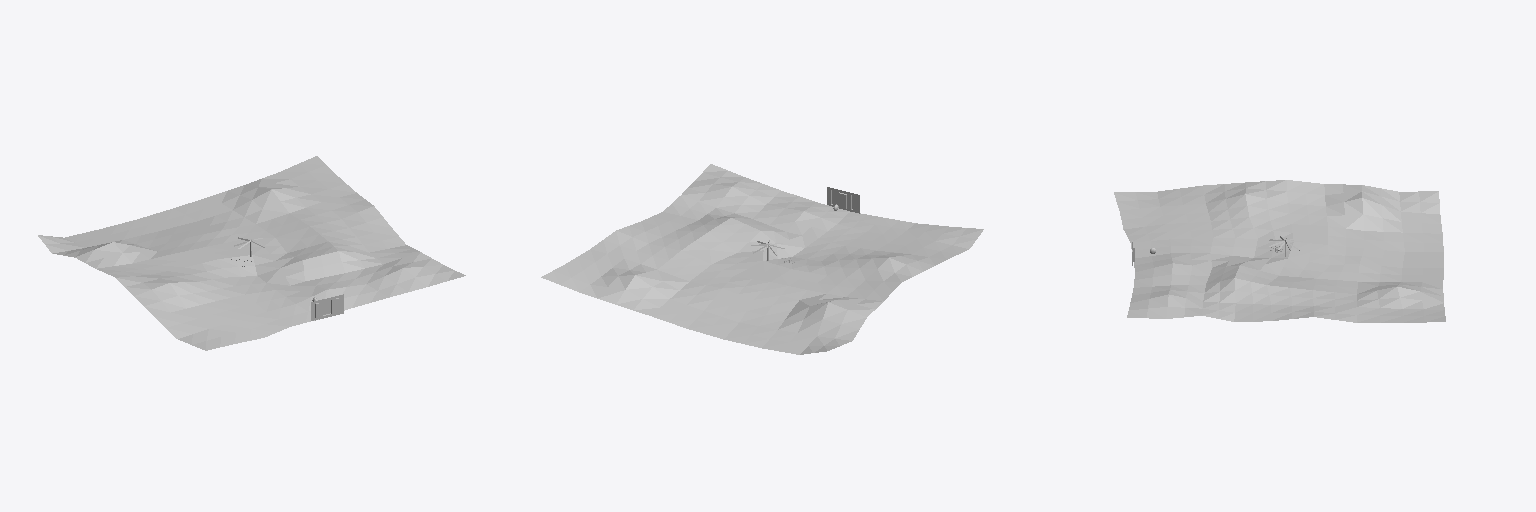
The model's file is landscape01.obj.
3 views of the same model, side by side, from view 1: azimuth 30°, elevation 25°; view 2: azimuth 150°, elevation 25°; view 3: azimuth 270°, elevation 25° (orthographic).
Parts seen in each view (by area): view 1: Plane, BRANCH.003; view 2: Plane, BRANCH.003; view 3: Plane.
Part boxes in pixels (x1,y1,x2,y2): Plane: (38, 156, 465, 350); BRANCH.003: (238, 240, 343, 320); Plane: (541, 164, 983, 354); BRANCH.003: (768, 187, 859, 248); Plane: (1114, 180, 1445, 322).
Size of the model in its own units: 203 by 19.56 by 203.